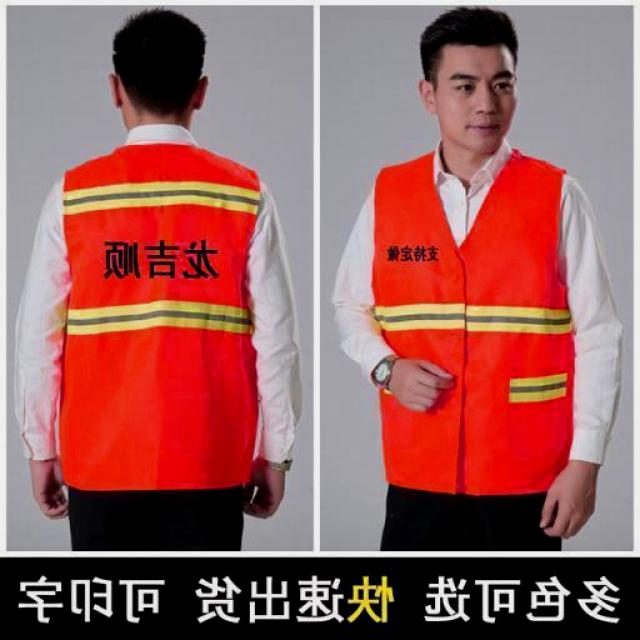face_nomask: (441, 65, 519, 143)
hand_noglove: (527, 463, 604, 542), (386, 354, 459, 418), (236, 448, 292, 521), (23, 453, 79, 522)
head_nohelmet: (110, 9, 206, 85), (416, 2, 520, 58)
person: (332, 4, 622, 552), (19, 4, 300, 548)
vest: (52, 138, 270, 492), (373, 146, 578, 499)
